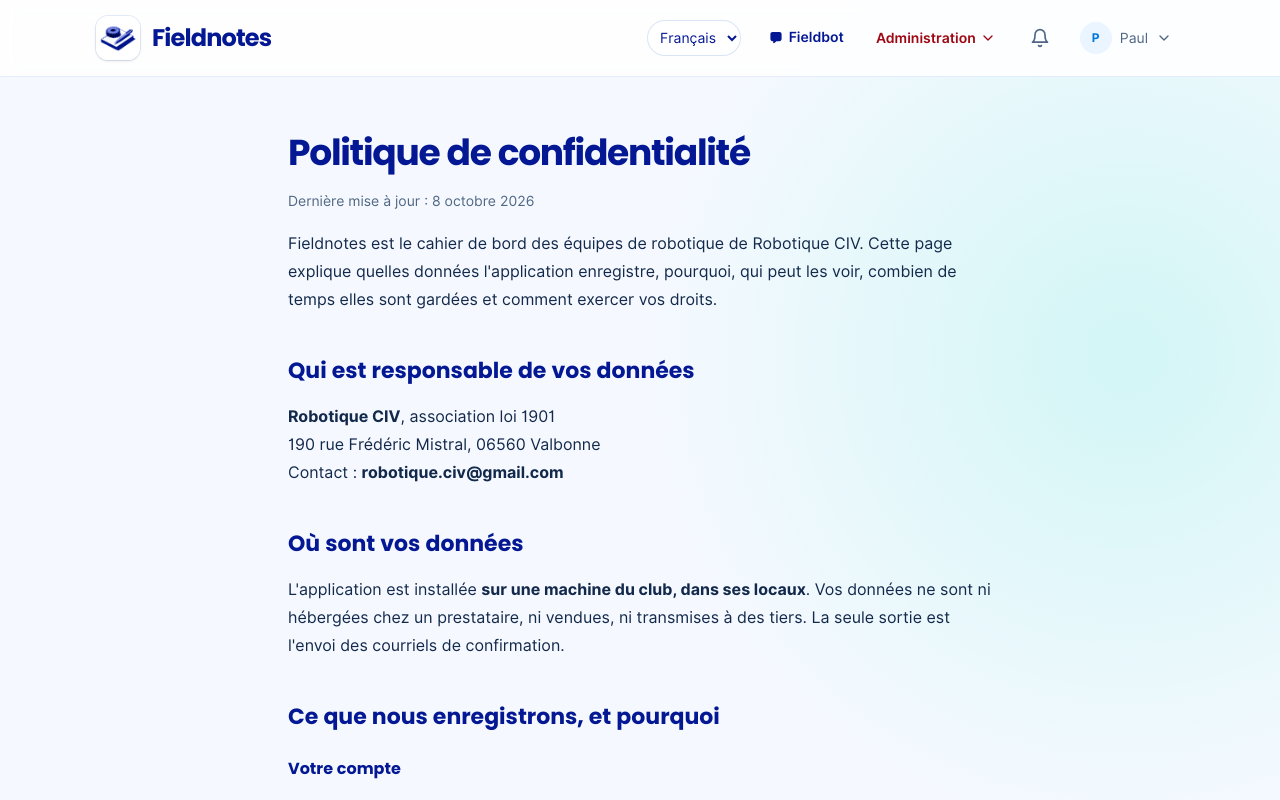
Test case: puts the account menu away on a click elsewhere
The image size is (1280, 800).
Click the button with aria-label "Menu du compte (Paul)": (1130, 38) [1076,18,1184,58]
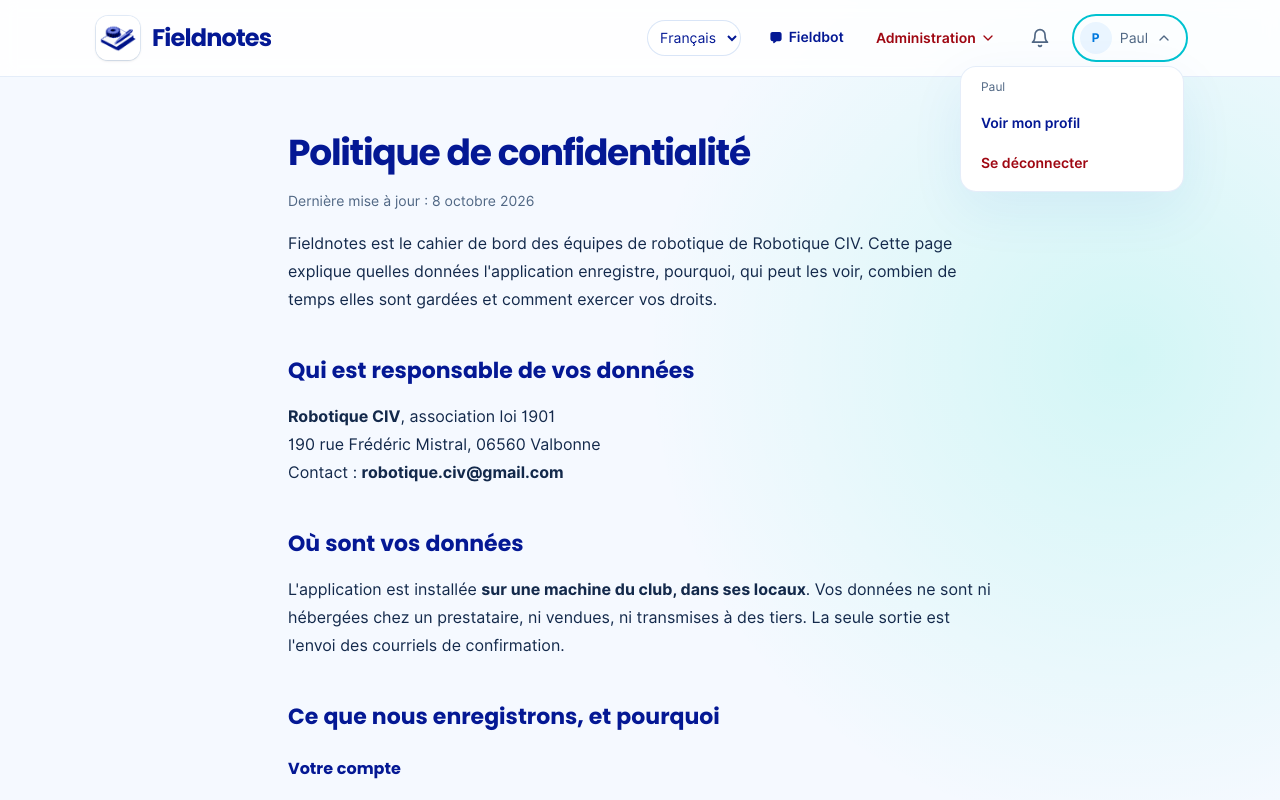
Click the heading "Politique de confidentialité": (519, 152) [288,127,750,178]
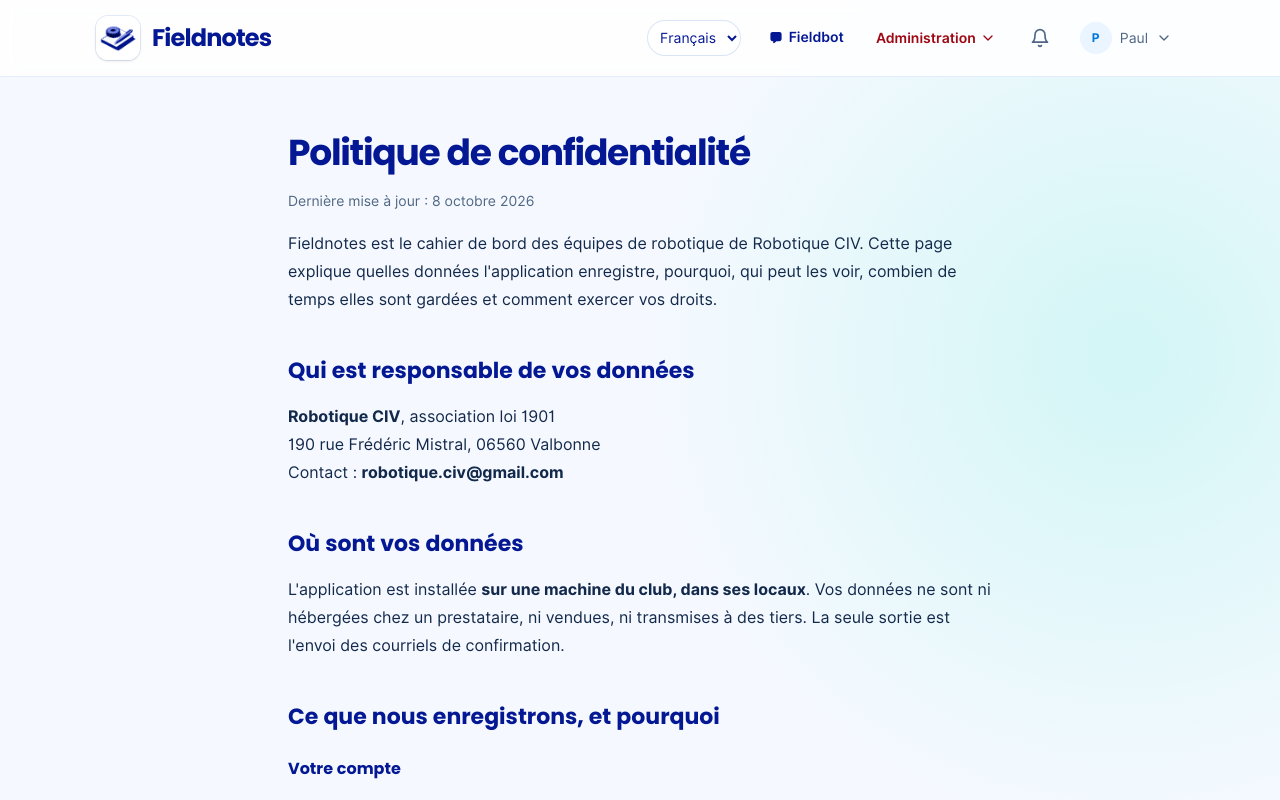
Expected: the link "Voir mon profil" is gone
